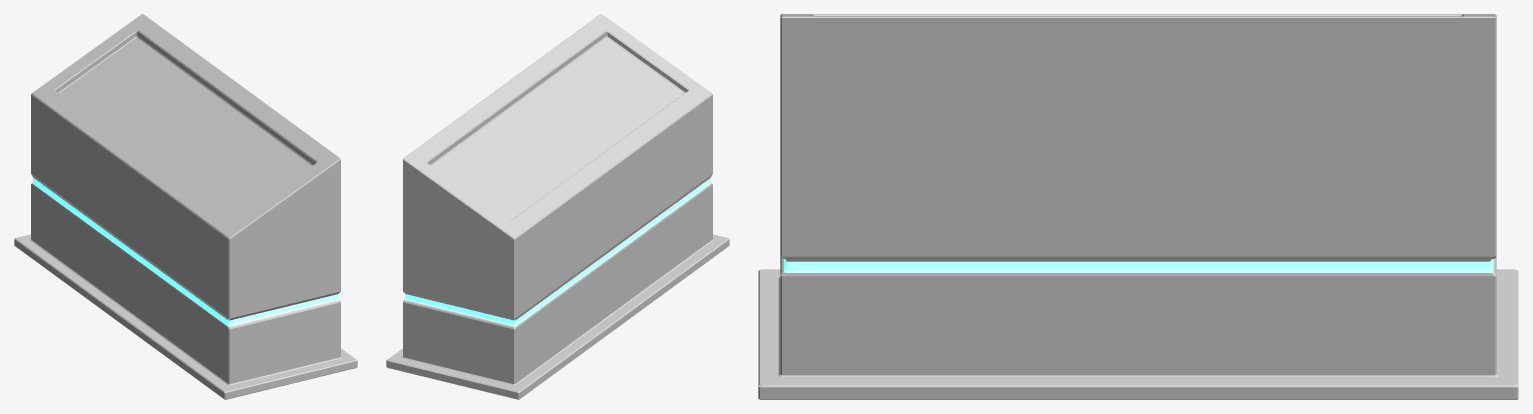
File: ControlPanel.fbx
The picture shows the model from 3 angles, left to right: view 1: azimuth 30°, elevation 25°; view 2: azimuth 150°, elevation 25°; view 3: azimuth 270°, elevation 25°; orthographic projection. The views are drawn at different scales.
Parts seen in each view (by area): view 1: Cube; view 2: Cube; view 3: Cube.
Part boxes in pixels (<box>): Cube: <box>14,14,357,399</box>; Cube: <box>386,14,729,399</box>; Cube: <box>758,14,1518,399</box>.
Size of the model in its own units: 200 by 298 by 548.
